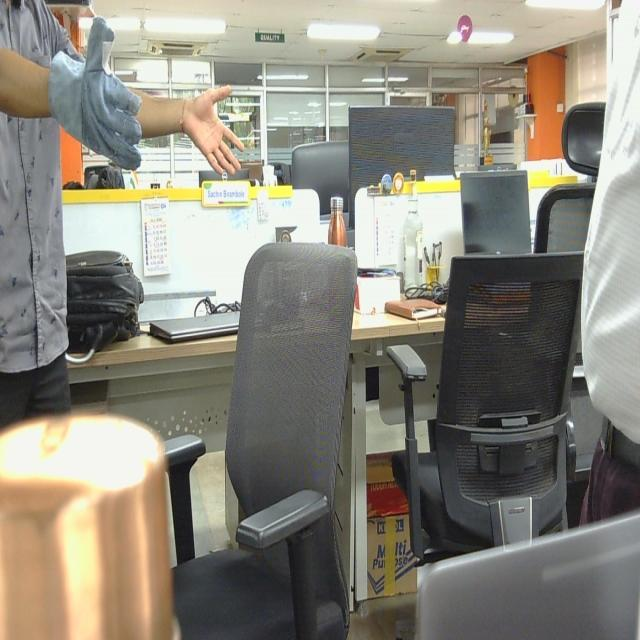Gloves-Detection: (50, 15, 144, 176)
